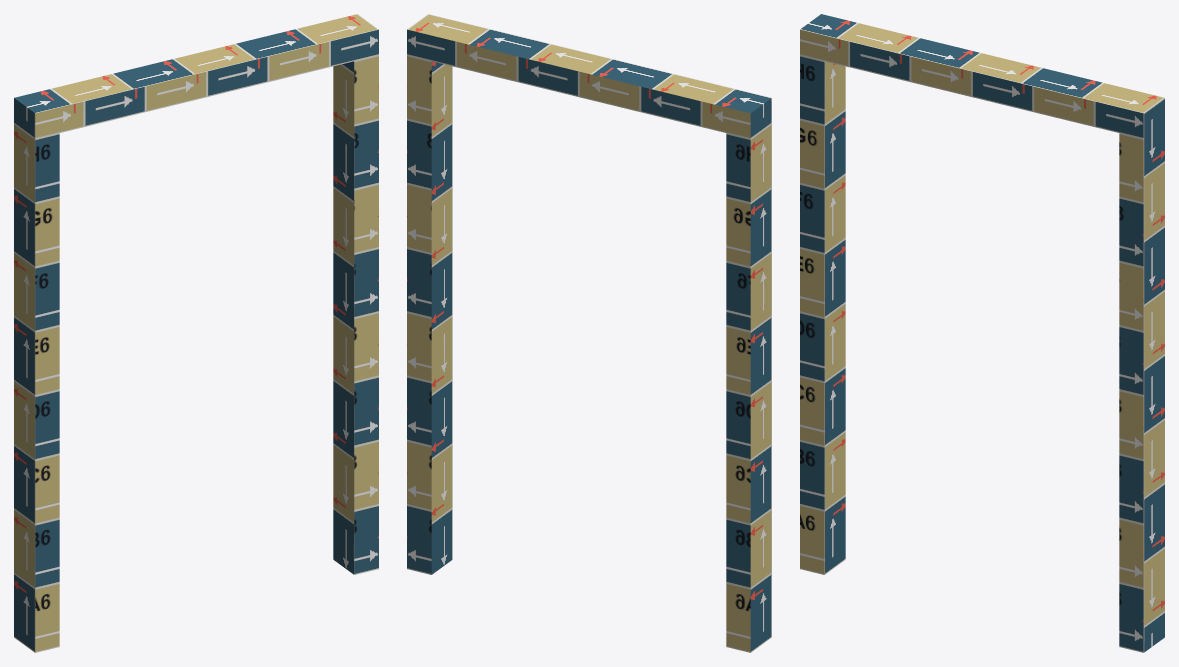
File: DOOR_Frame.fbx
3 renders of one model, left to right at view 1: azimuth 30°, elevation 25°; view 2: azimuth 150°, elevation 25°; view 3: azimuth 330°, elevation 25°, orthographic.
Visible parts, largest first — view 1: DOOR_Frame; view 2: DOOR_Frame; view 3: DOOR_Frame.
Part boxes in pixels (x1,y1,x2,y2): DOOR_Frame: (14, 14, 378, 652); DOOR_Frame: (407, 14, 771, 652); DOOR_Frame: (800, 14, 1164, 652).
Size of the model in its own units: 140 by 210 by 15.
1 material, 1 textured.
